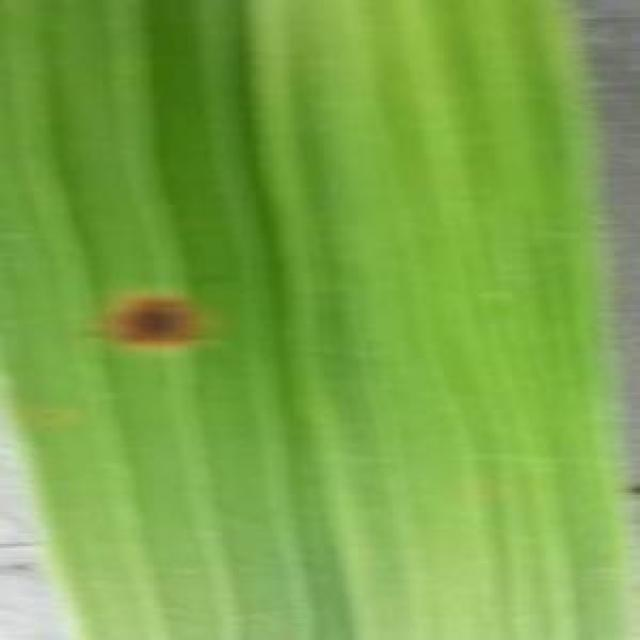Brown_Spot: (95, 277, 213, 361)
